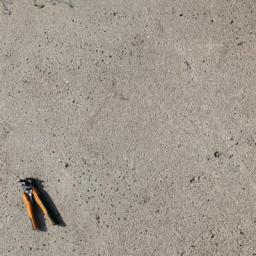FOD: (16, 177, 67, 235)
